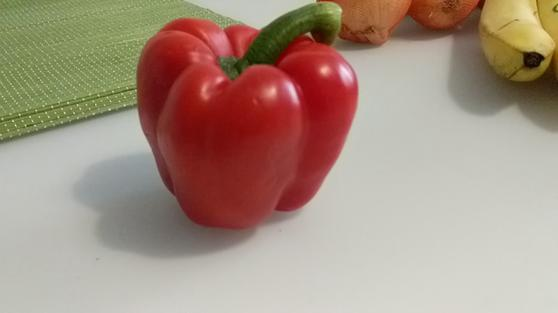banana: (481, 1, 558, 89)
pepper: (151, 1, 362, 229)
